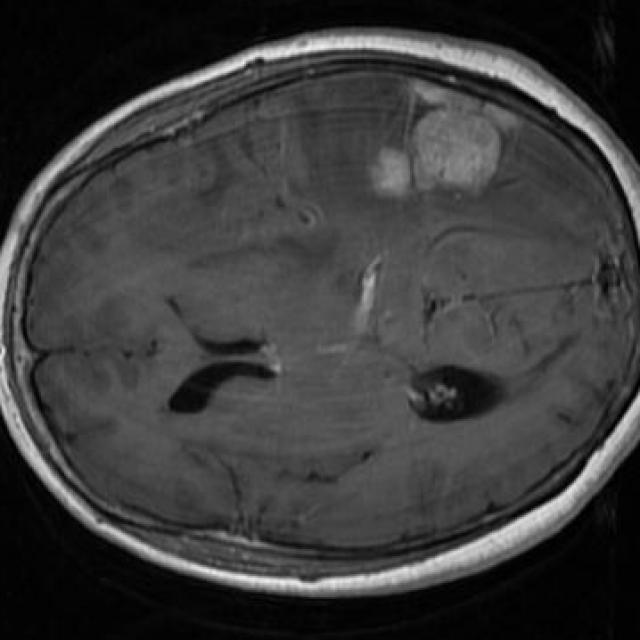meningioma: (378, 82, 521, 194)
